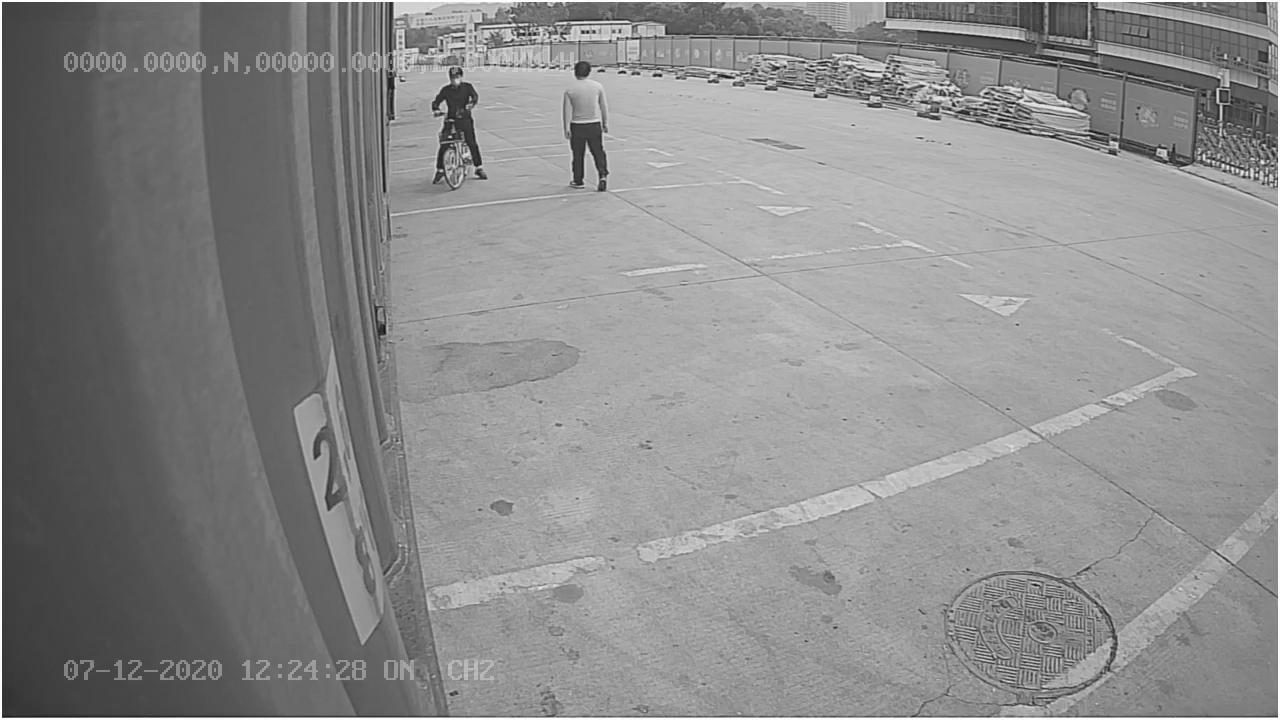person: (557, 60, 614, 195)
